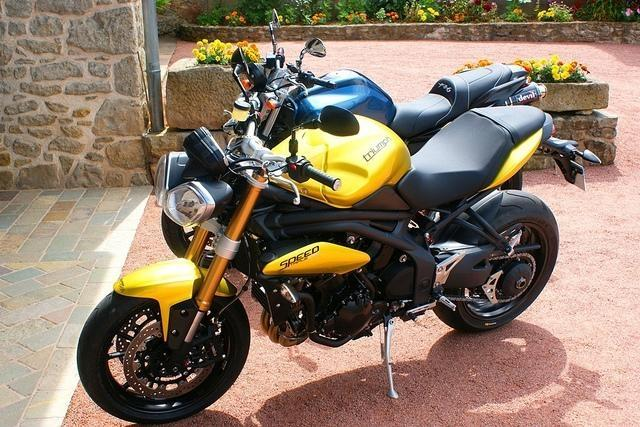motorcycle: (77, 44, 606, 422), (251, 8, 549, 145)
